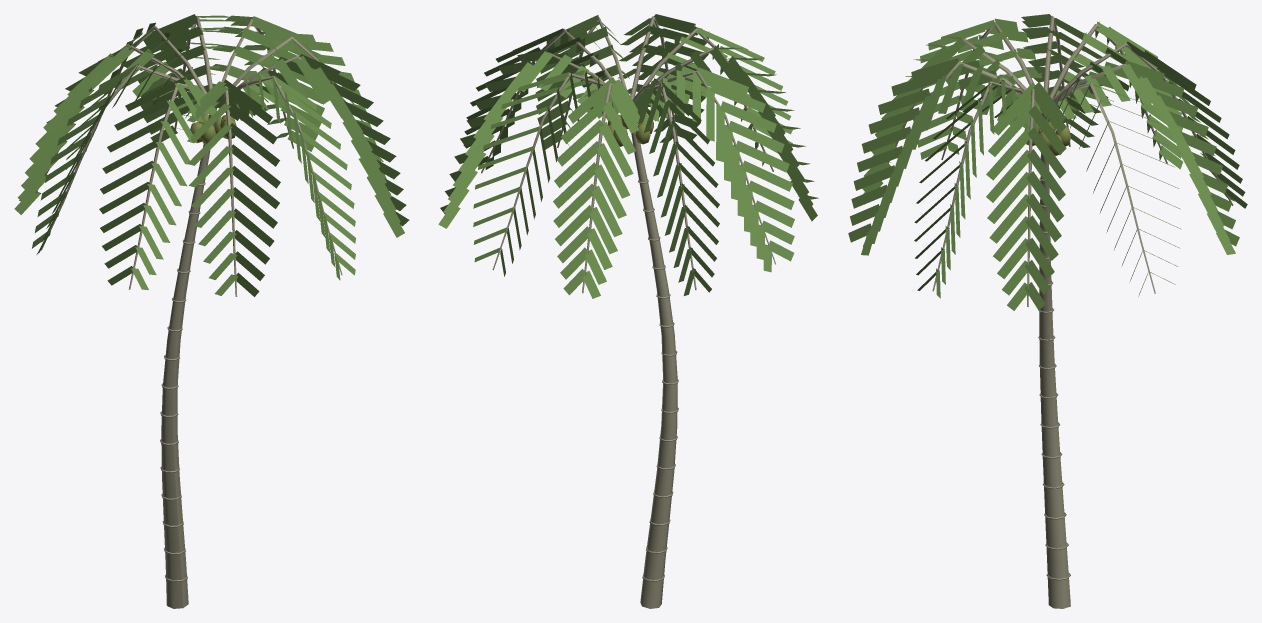
The model's file is veg.coconut.gltf.
3 renders of one model, left to right at view 1: azimuth 30°, elevation 25°; view 2: azimuth 150°, elevation 25°; view 3: azimuth 270°, elevation 25°, orthographic. The views are drawn at different scales.
Parts seen in each view (by area): view 1: veg.coconut/foliage_tropical#668949, veg.coconut/wood_teak#929079, veg.coconut/plaster_tint#7b8546; view 2: veg.coconut/foliage_tropical#668949, veg.coconut/wood_teak#929079; view 3: veg.coconut/foliage_tropical#668949, veg.coconut/wood_teak#929079.
Boxes of the visible parts, x1=… form: veg.coconut/foliage_tropical#668949: x1=14, y1=14, x2=409, y2=296; veg.coconut/wood_teak#929079: x1=35, y1=15, x2=342, y2=608; veg.coconut/plaster_tint#7b8546: x1=190, y1=114, x2=236, y2=144; veg.coconut/foliage_tropical#668949: x1=438, y1=14, x2=818, y2=298; veg.coconut/wood_teak#929079: x1=481, y1=16, x2=775, y2=608; veg.coconut/foliage_tropical#668949: x1=848, y1=14, x2=1247, y2=310; veg.coconut/wood_teak#929079: x1=863, y1=16, x2=1233, y2=608.
Bounding box in the file's own units: 8.33 × 12.98 × 8.25.
